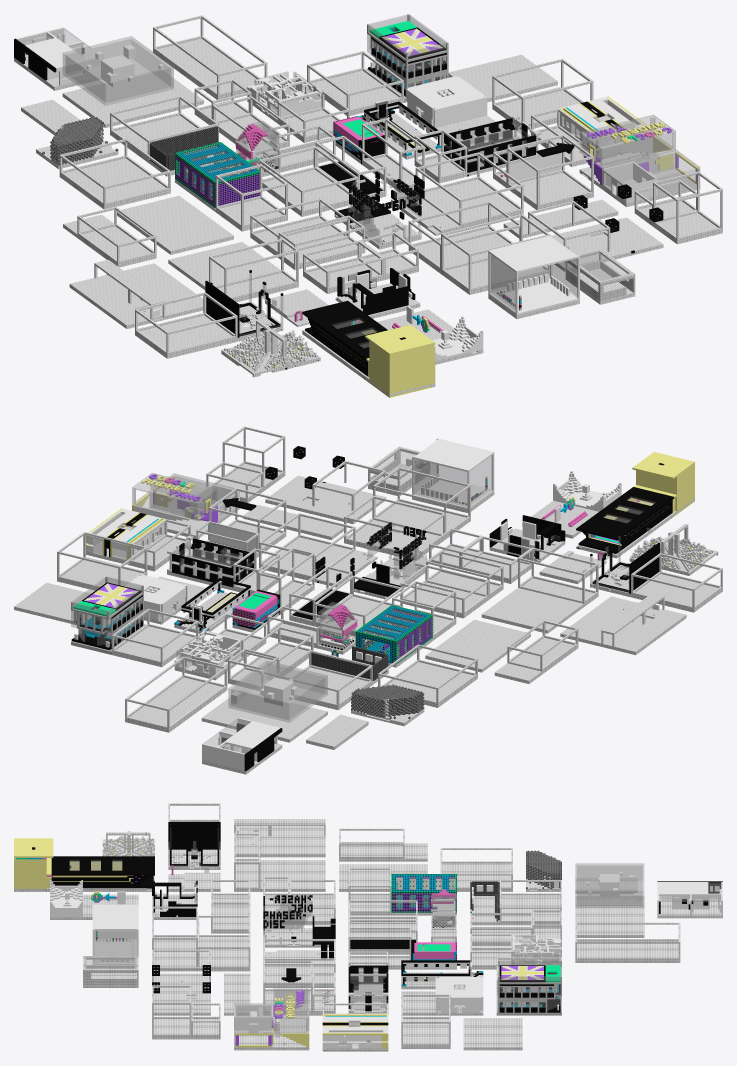
Rendered from Hiro-v1.glb.
3 views of the same model, one above another, from view 1: azimuth 30°, elevation 25°; view 2: azimuth 150°, elevation 25°; view 3: azimuth 270°, elevation 25° (orthographic). The views are drawn at different scales.
Visible parts, largest first — view 1: glass-voxels_16.005, solid-voxels_37.006, solid-voxels_10.007, solid-voxels_22.006, solid-voxels_26.006, solid-voxels_54.005, solid-voxels_58.005, solid-voxels_66.004, solid-voxels_9.007, solid-voxels_53.005, solid-voxels.007, solid-voxels_64.004 (+71 smaller); view 2: glass-voxels_16.005, solid-voxels_64.004, solid-voxels_26.006, solid-voxels_22.006, solid-voxels_37.006, solid-voxels_66.004, solid-voxels_54.005, solid-voxels_53.005, solid-voxels_10.007, solid-voxels_29.006, solid-voxels_44.006, solid-voxels_17.007 (+70 smaller); view 3: solid-voxels_64.004, solid-voxels_26.006, glass-voxels_16.005, solid-voxels_22.006, solid-voxels_62.004, solid-voxels_68.004, solid-voxels_53.005, solid-voxels_54.005, solid-voxels_37.006, solid-voxels_29.006, solid-voxels_39.006, solid-voxels_58.005 (+70 smaller).
Boxes of the visible parts, bbox=[...] form: glass-voxels_16.005: bbox=[63, 36, 173, 105]; solid-voxels_37.006: bbox=[488, 235, 579, 318]; solid-voxels_10.007: bbox=[59, 138, 170, 209]; solid-voxels_22.006: bbox=[153, 15, 267, 99]; solid-voxels_26.006: bbox=[366, 14, 448, 102]; solid-voxels_54.005: bbox=[62, 44, 175, 127]; solid-voxels_58.005: bbox=[365, 324, 435, 397]; solid-voxels_66.004: bbox=[175, 142, 259, 211]; solid-voxels_9.007: bbox=[415, 152, 523, 228]; solid-voxels_53.005: bbox=[14, 27, 100, 90]; solid-voxels.007: bbox=[135, 292, 237, 358]; solid-voxels_64.004: bbox=[302, 300, 387, 379]; glass-voxels_16.005: bbox=[228, 660, 327, 722]; solid-voxels_64.004: bbox=[576, 487, 673, 558]; solid-voxels_26.006: bbox=[71, 576, 145, 654]; solid-voxels_22.006: bbox=[125, 656, 227, 732]; solid-voxels_37.006: bbox=[412, 438, 494, 512]; solid-voxels_66.004: bbox=[355, 605, 432, 667]; solid-voxels_54.005: bbox=[226, 669, 327, 742]; solid-voxels_53.005: bbox=[202, 717, 282, 774]; solid-voxels_10.007: bbox=[378, 644, 477, 707]; solid-voxels_29.006: bbox=[560, 608, 666, 655]; solid-voxels_44.006: bbox=[167, 535, 253, 590]; solid-voxels_17.007: bbox=[275, 650, 372, 709]; solid-voxels_64.004: bbox=[53, 856, 154, 891]; solid-voxels_26.006: bbox=[496, 960, 561, 1015]; glass-voxels_16.005: bbox=[575, 863, 643, 907]; solid-voxels_22.006: bbox=[575, 922, 680, 962]; solid-voxels_62.004: bbox=[168, 822, 220, 869]; solid-voxels_68.004: bbox=[322, 1014, 388, 1051]; solid-voxels_53.005: bbox=[657, 881, 722, 918]; solid-voxels_54.005: bbox=[575, 872, 644, 922]; solid-voxels_37.006: bbox=[92, 904, 138, 964]; solid-voxels_29.006: bbox=[270, 819, 325, 857]; solid-voxels_39.006: bbox=[197, 915, 250, 971]; solid-voxels_58.005: bbox=[14, 838, 53, 891].
Bounding box in the file's own units: 164 × 13 × 216.
Materials: 2 (1 with a texture image).
